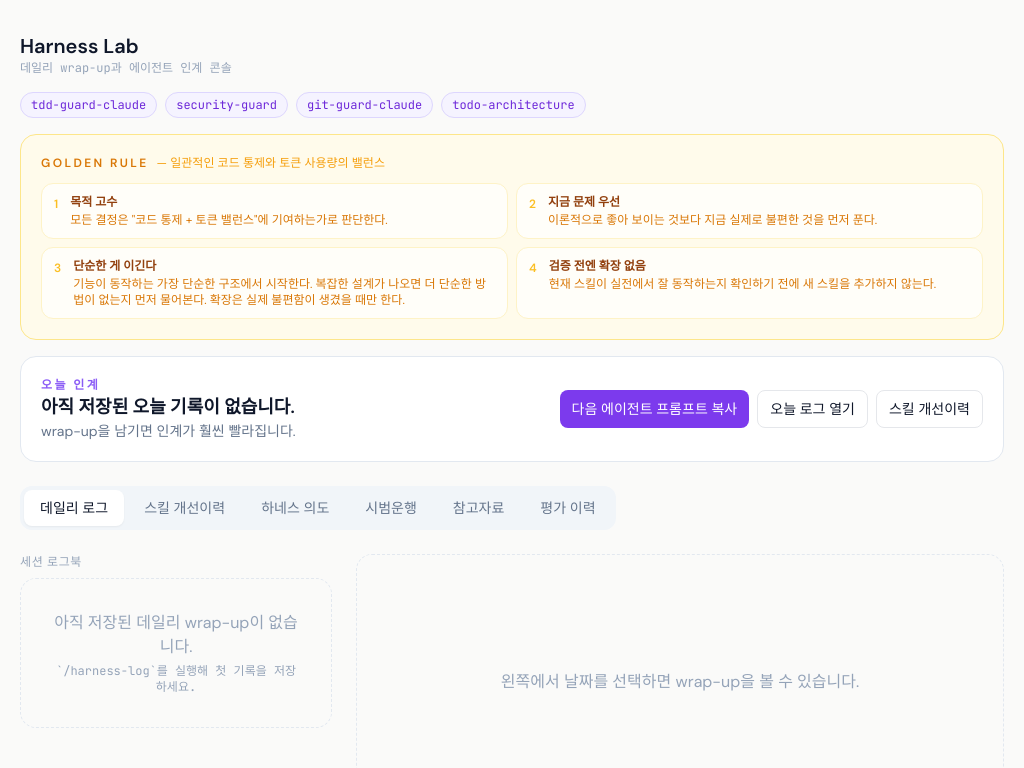
Test: HarnessLabPage › 평가 이력 탭 › gap에 결정이 없으면 adopt/skip 버튼이 렌더링된다
Click the button "평가 이력": (568, 508) [524,490,612,526]
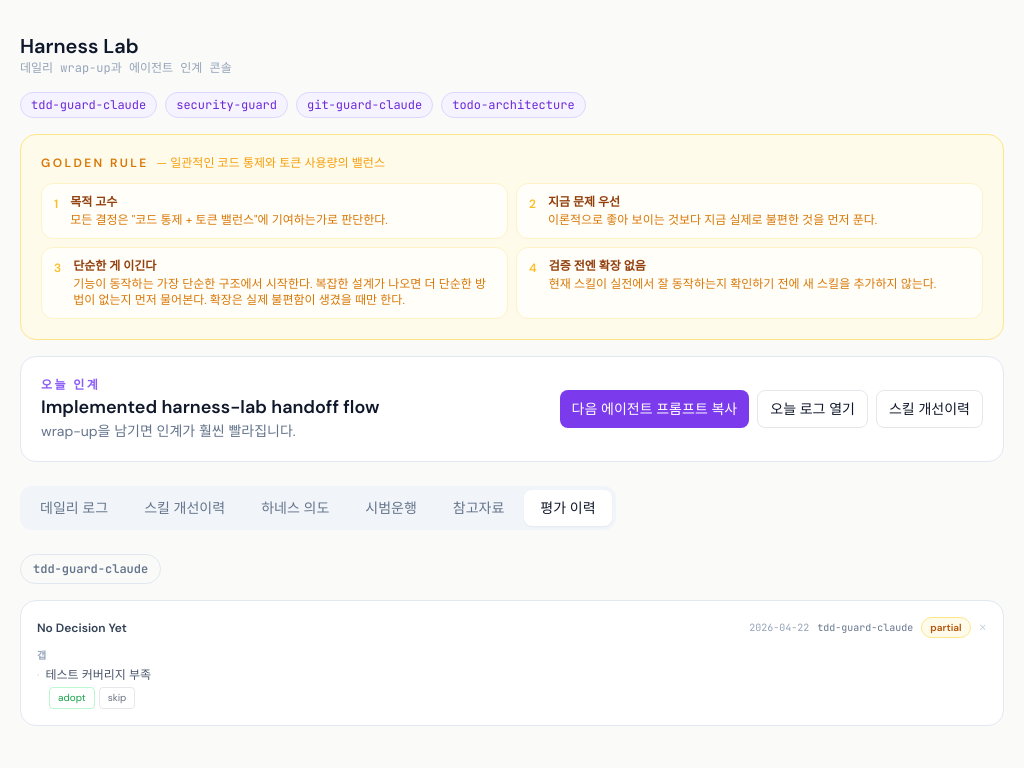
Expected: the link "No Decision Yet" is shown, [37,620,127,636]
Expected: the number of buttons "adopt" is 1, [49,687,95,709]
Expected: the number of buttons "skip" is 1, [99,687,135,709]
